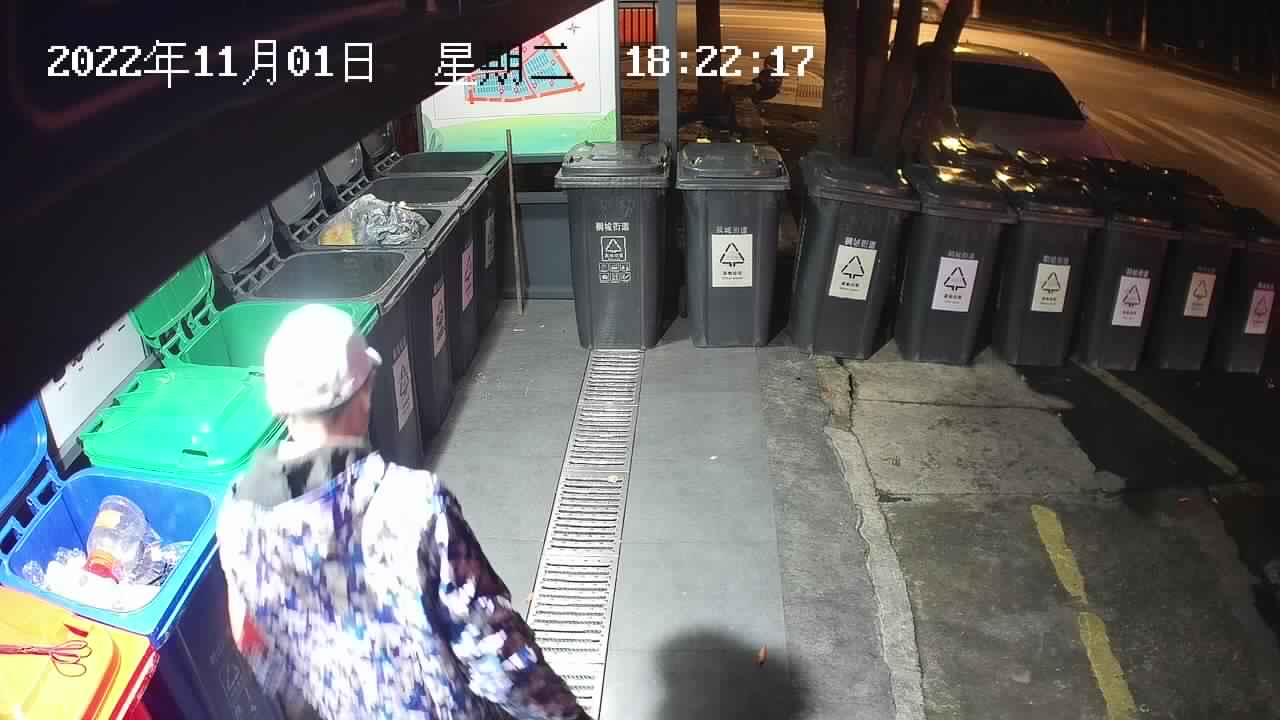worker: (212, 300, 595, 720)
